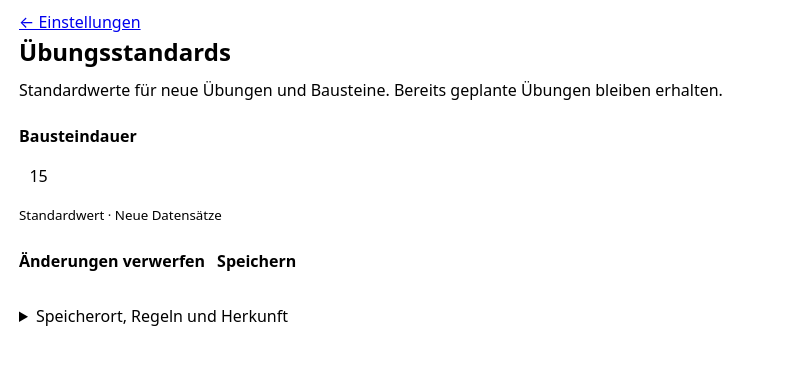
Scenario: Configuration editor › uses the returned server state after saving and updates the displayed source
This screenshot has width=811, height=367.
Replace the text in the number field labelled "Bausteindauer" with "30" at (405, 176), box [19,154,791,199]
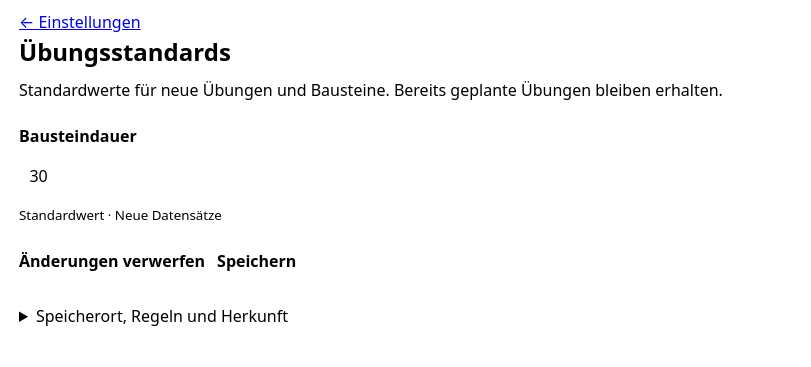
Submit the form, box [19,124,791,348]
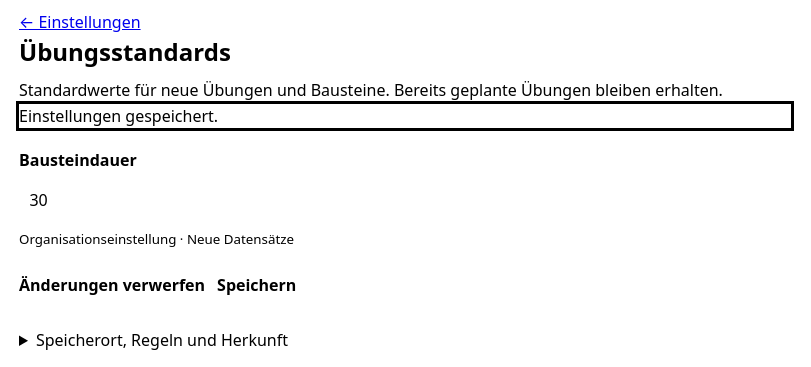
Result: the text "Einstellungen gespeichert." is shown at [19,104,218,128]
Result: the text "Organisationseinstellung" is shown at [19,230,176,248]
Result: the button "Speichern" is disabled at [217,274,296,296]
